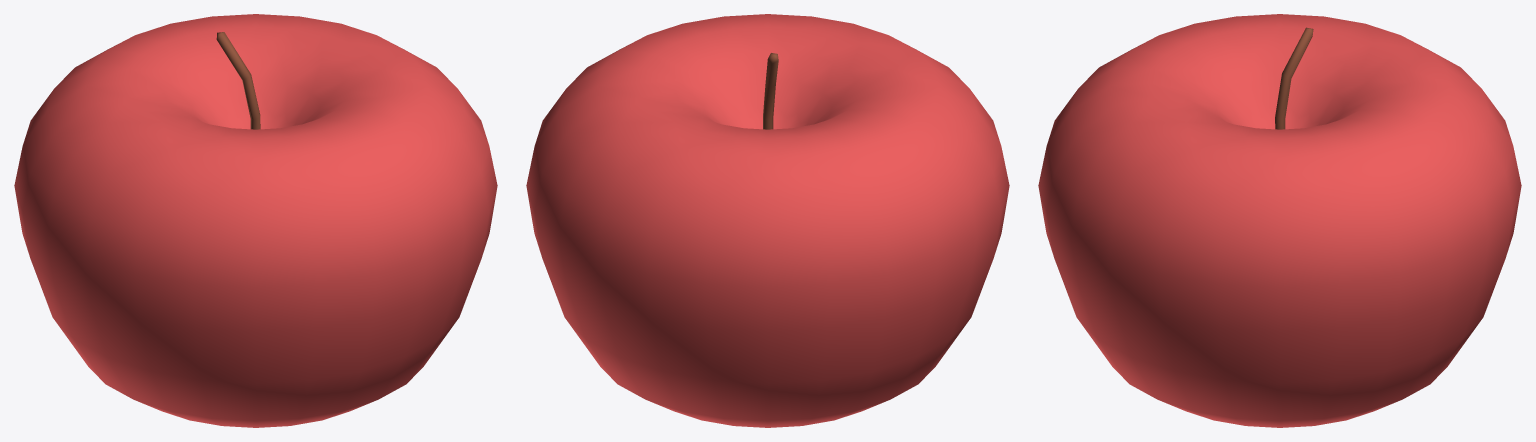
File: apple_a001.fbx
3 views of the same model, side by side, from view 1: azimuth 30°, elevation 25°; view 2: azimuth 150°, elevation 25°; view 3: azimuth 270°, elevation 25° (orthographic).
Visible parts, largest first — view 1: apple; view 2: apple; view 3: apple.
Boxes of the visible parts, left/top/right/bottom form: apple: left=14, top=14, right=497, bottom=427; apple: left=526, top=14, right=1009, bottom=427; apple: left=1038, top=14, right=1521, bottom=427.
Bounding box in the file's own units: 7.79 × 5.95 × 7.79.
